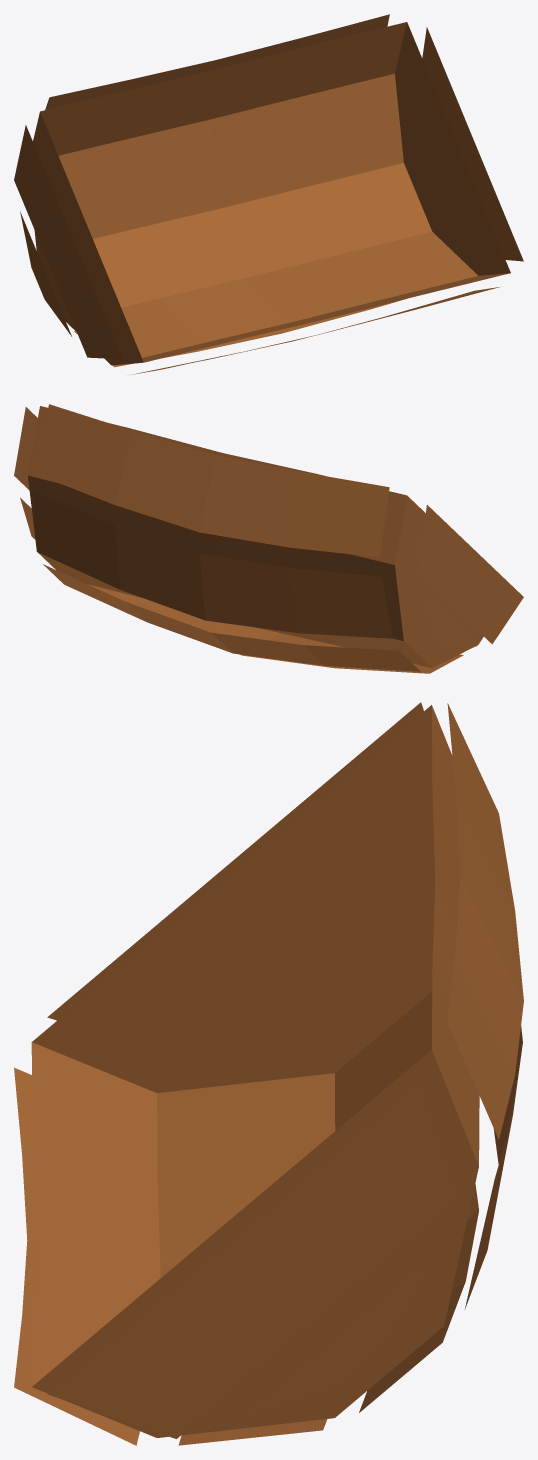
Rendered from n2_chest_top_light_brown_0_lev2.glb.
3 views of the same model, one above another, from view 1: azimuth 30°, elevation 25°; view 2: azimuth 150°, elevation 25°; view 3: azimuth 270°, elevation 25° (orthographic). The views are drawn at different scales.
Parts seen in each view (by area): view 1: n2_chest_top_light_brown_0_lev2; view 2: n2_chest_top_light_brown_0_lev2; view 3: n2_chest_top_light_brown_0_lev2.
Part boxes in pixels (box(x1,y1,x2,y2)): n2_chest_top_light_brown_0_lev2: box(14, 14, 523, 375); n2_chest_top_light_brown_0_lev2: box(14, 404, 523, 673); n2_chest_top_light_brown_0_lev2: box(14, 702, 523, 1445).
Size of the model in its own units: 1.24 by 0.676 by 0.6994.
